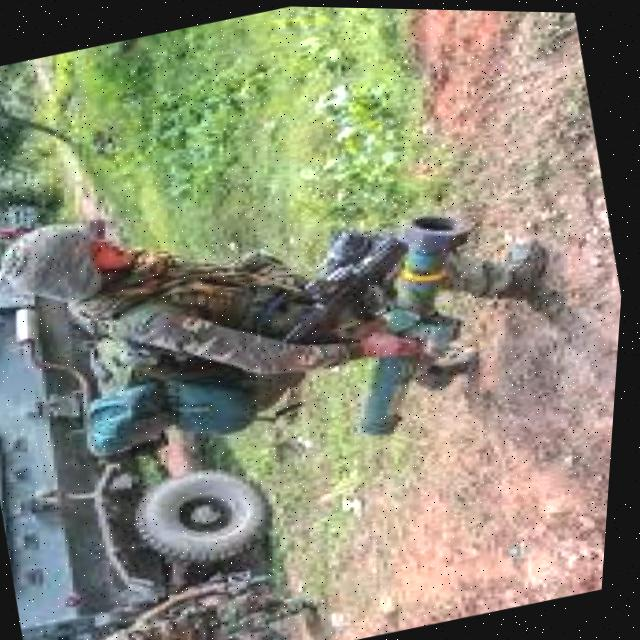rocket: (307, 187, 526, 459)
